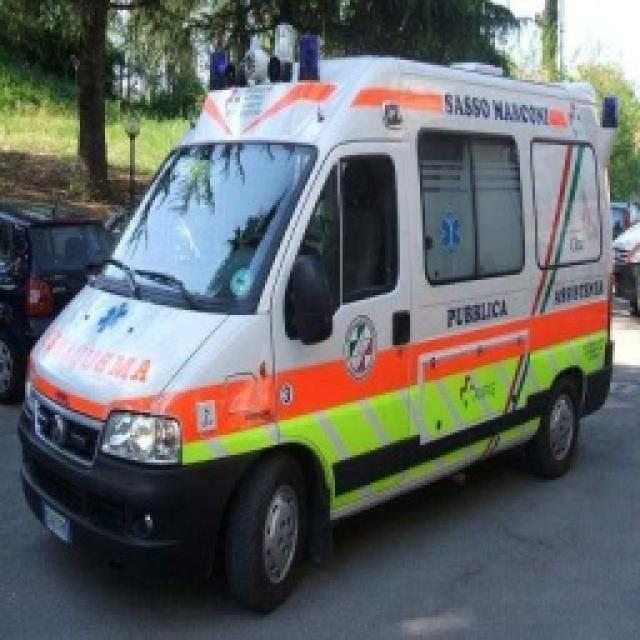emergency-vehicle: (30, 21, 613, 604)
